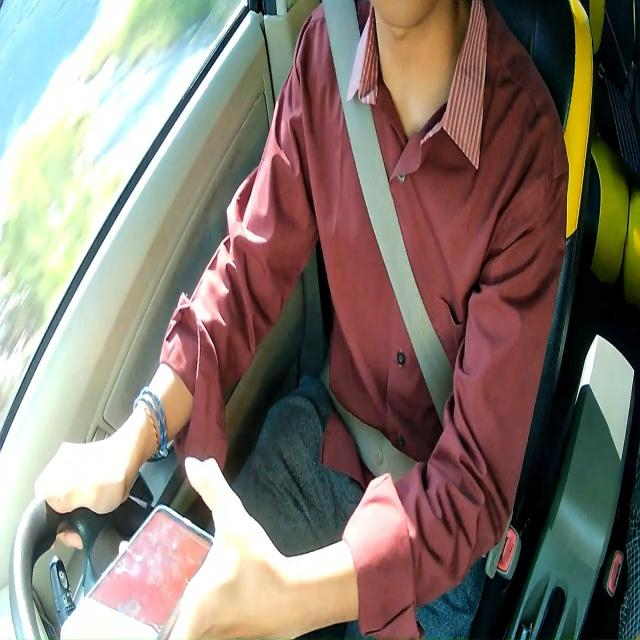phone: (61, 500, 216, 640)
